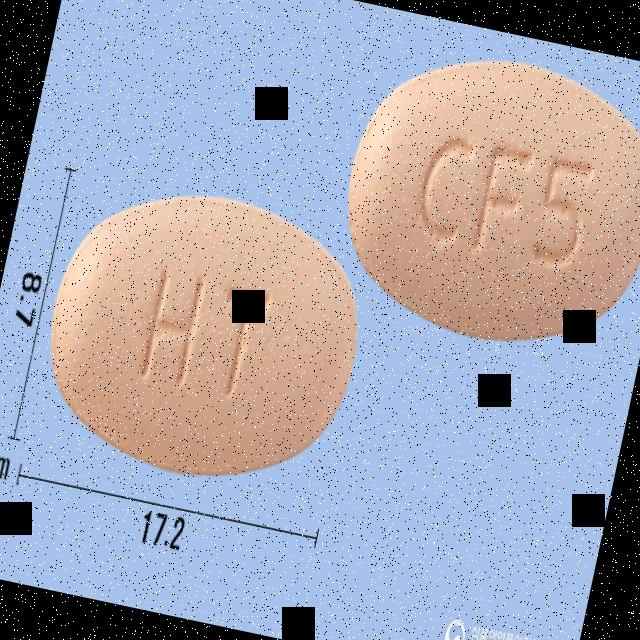Crafroxin Tab: (24, 166, 382, 506), (321, 30, 640, 368)
